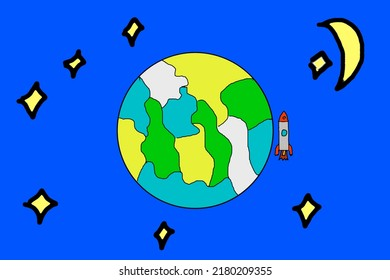moon: (315, 16, 366, 92)
roket: (274, 107, 295, 163)
